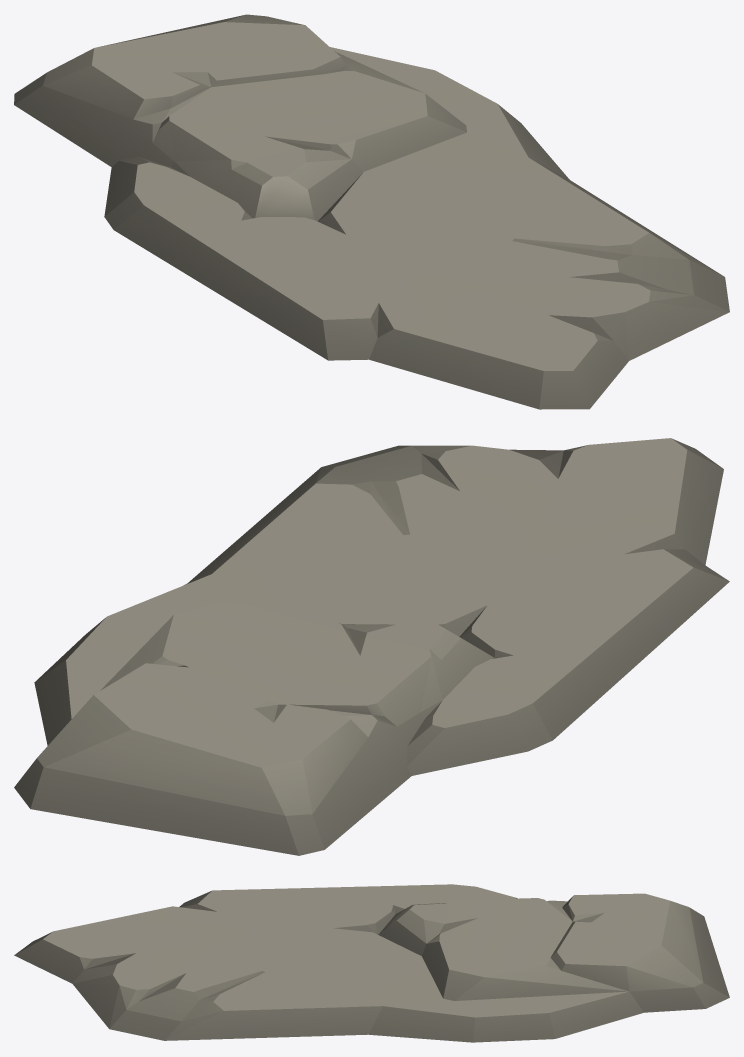
Rendered from Rock_Slab_6A.fbx.
3 views of the same model, one above another, from view 1: azimuth 30°, elevation 25°; view 2: azimuth 150°, elevation 25°; view 3: azimuth 270°, elevation 25° (orthographic). The views are drawn at different scales.
Visible parts, largest first — view 1: Rock_Slab_6A; view 2: Rock_Slab_6A; view 3: Rock_Slab_6A.
Boxes of the visible parts, x1,y1,x2,y2 form: Rock_Slab_6A: [14, 14, 729, 409]; Rock_Slab_6A: [14, 438, 729, 855]; Rock_Slab_6A: [14, 884, 729, 1042].
Size of the model in its own units: 7.7 by 0.8671 by 15.55.
